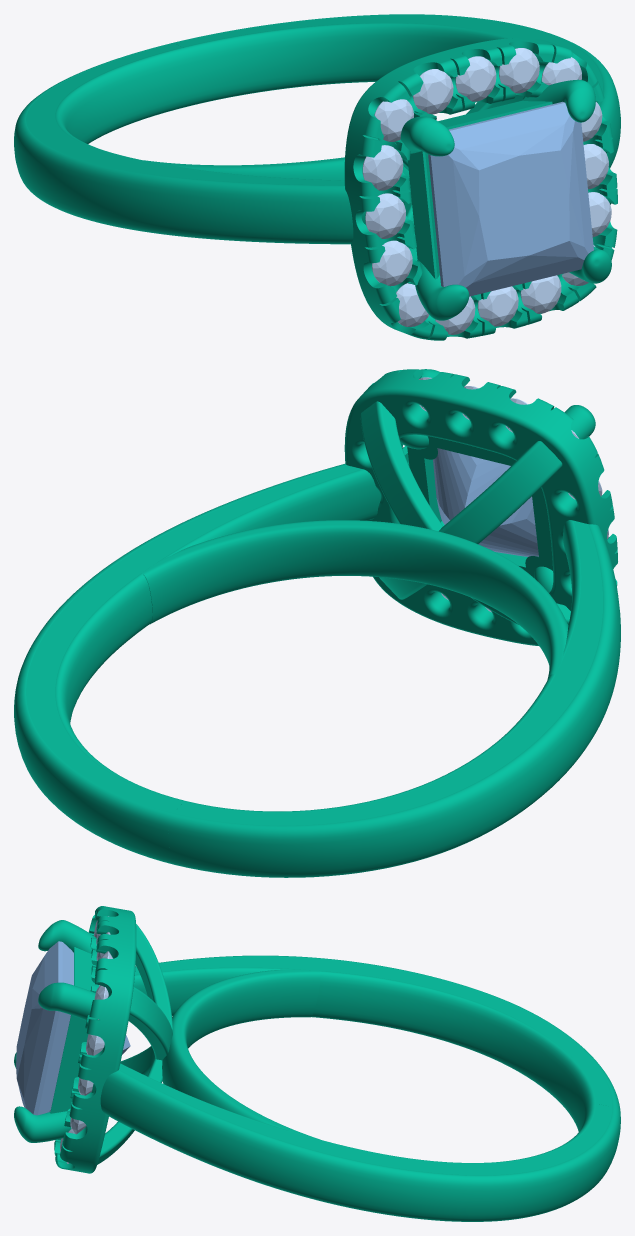
The picture shows the model from 3 angles, top to bottom: view 1: azimuth 30°, elevation 25°; view 2: azimuth 150°, elevation 25°; view 3: azimuth 270°, elevation 25°; orthographic projection. The views are drawn at different scales.
Visible parts, largest first — view 1: JTC 6546(back).3dm, Diamond_Princess, Diamond_Round (×15); view 2: JTC 6546(back).3dm, Diamond_Princess; view 3: JTC 6546(back).3dm, Diamond_Princess.
Boxes of the visible parts, bbox=[...] form: JTC 6546(back).3dm: bbox=[14, 14, 620, 340]; Diamond_Princess: bbox=[428, 101, 593, 296]; Diamond_Round (×15): bbox=[362, 48, 611, 334]; JTC 6546(back).3dm: bbox=[14, 369, 620, 877]; Diamond_Princess: bbox=[433, 448, 538, 556]; JTC 6546(back).3dm: bbox=[14, 906, 620, 1221]; Diamond_Princess: bbox=[16, 941, 130, 1115].
Bounding box in the file's own units: 2.41 × 1.2 × 2.96.
